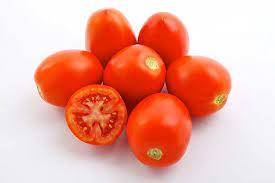tomato: (22, 42, 104, 102), (128, 86, 189, 165), (69, 78, 126, 156), (98, 42, 166, 96), (165, 55, 232, 107)
